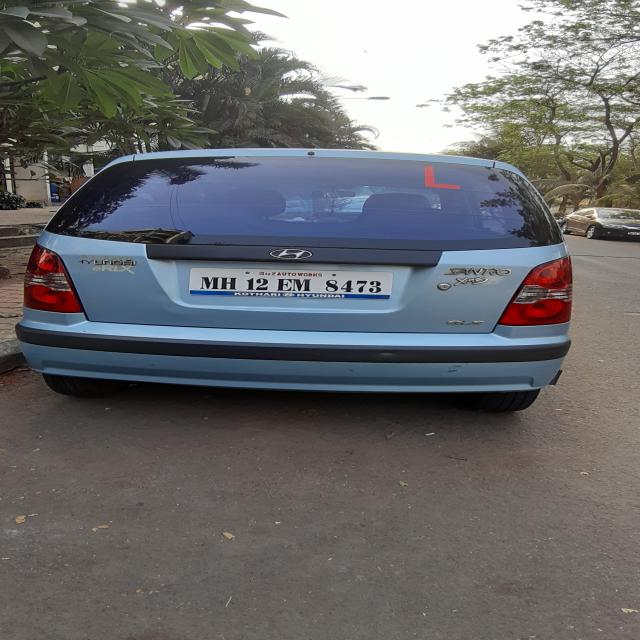Number-Plate: (186, 270, 399, 307)
